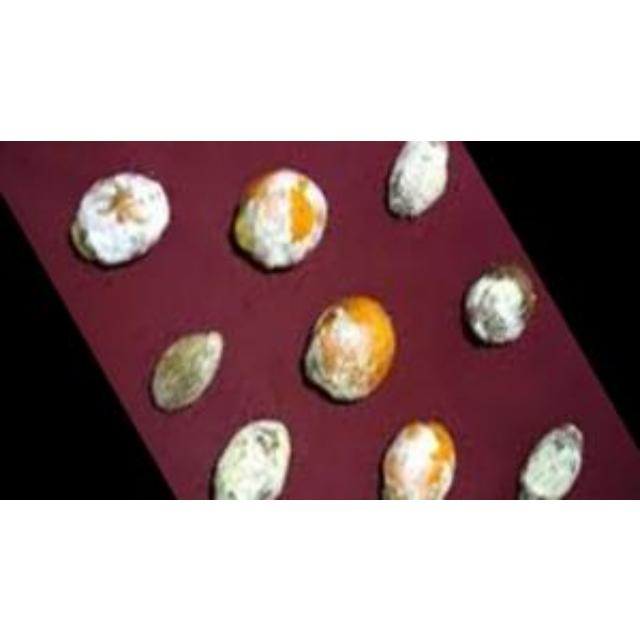damaged: (229, 164, 332, 275), (66, 166, 173, 271), (302, 294, 400, 405), (203, 416, 298, 497), (460, 262, 539, 348), (379, 418, 458, 497), (150, 333, 225, 414), (385, 140, 452, 221), (520, 423, 584, 497)
